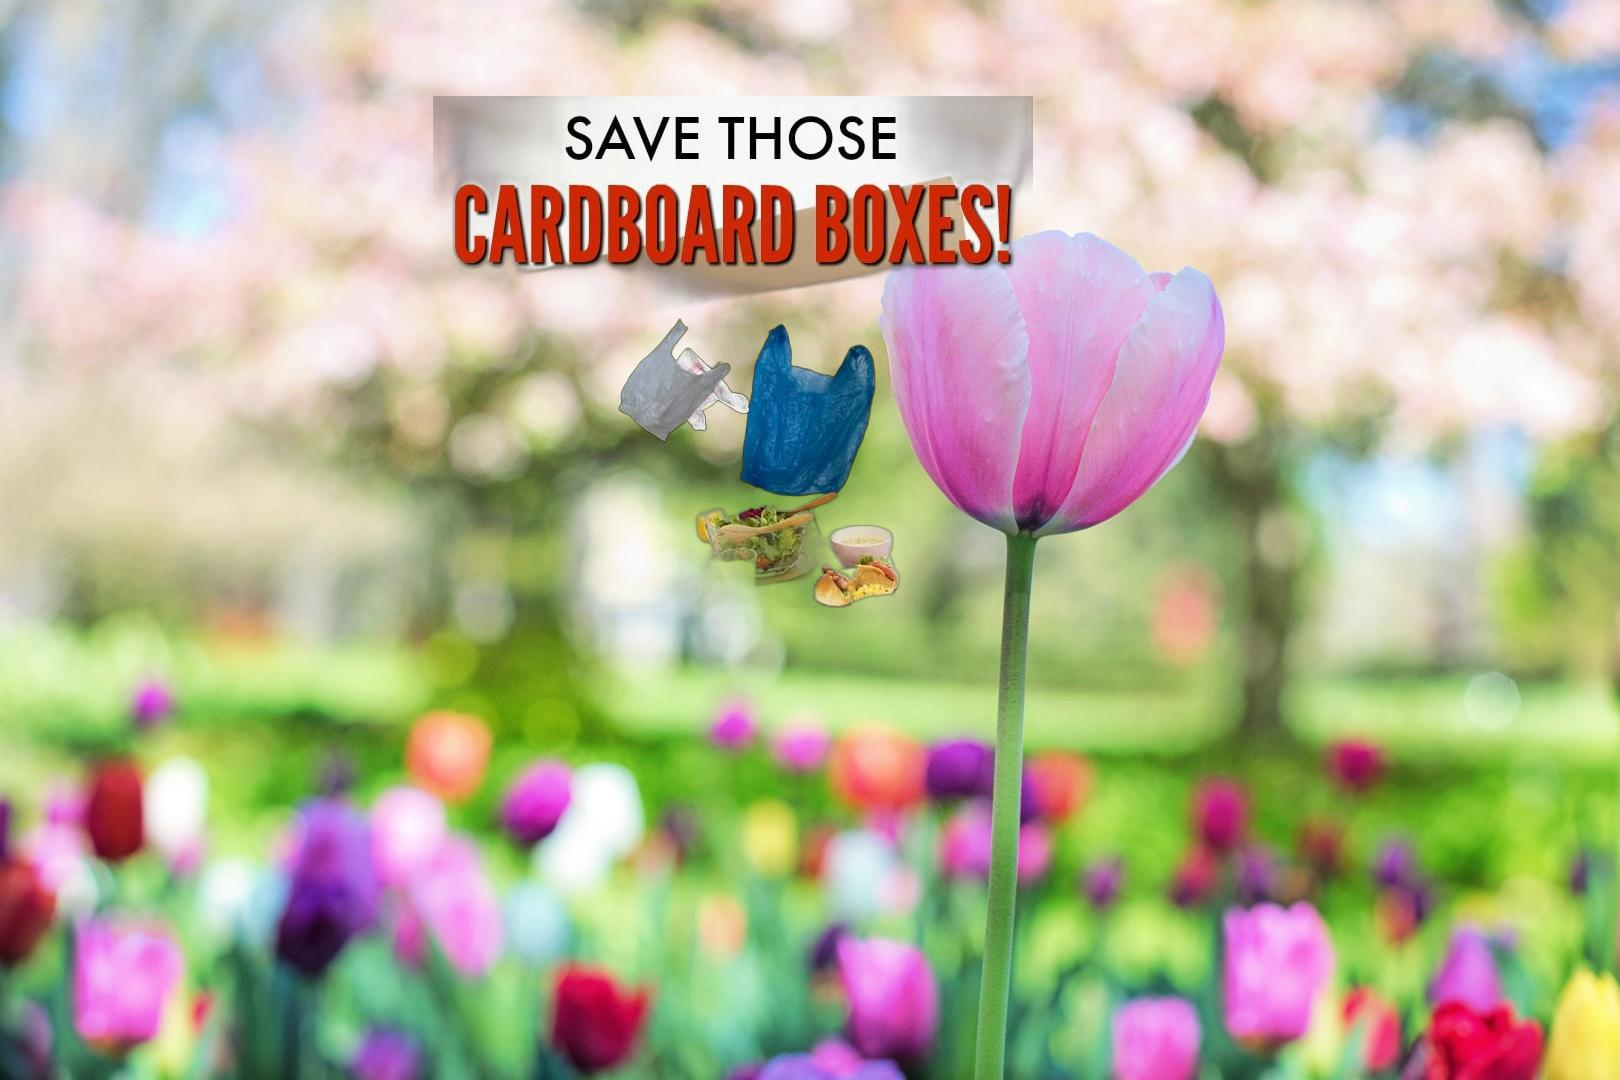biological: (589, 487, 963, 607)
plastic-bag: (616, 316, 877, 501)
trashbox-cardboard: (433, 96, 1033, 318)
